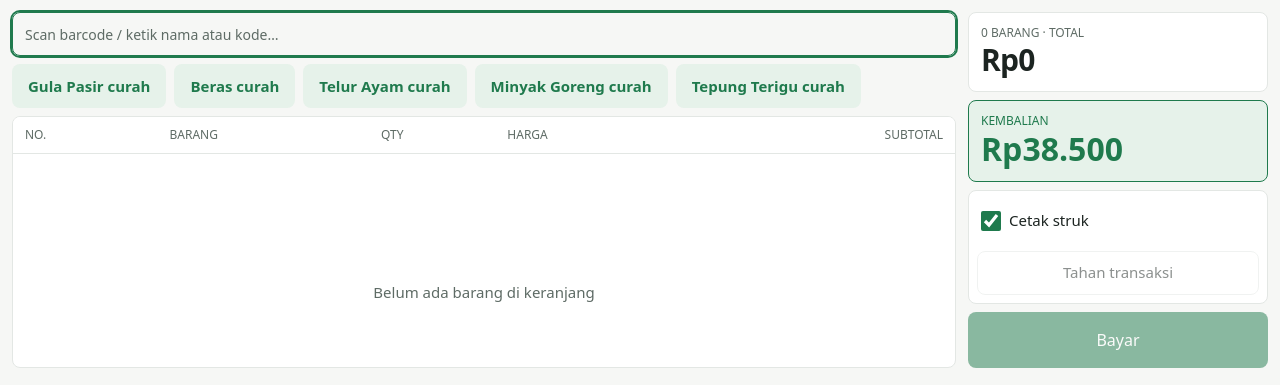
Test: kembalian setelah transaksi tampil sampai barang berikutnya ditambah
The width and height of the screenshot is (1280, 385).
Expected: the text "KEMBALIAN" is shown, [981,112,1049,128]
Expected: the text "Rp38.500" is shown, [981,126,1123,170]
Type "089686010947" into the dropdown labelled "Scan barcode / ketik nama atau kode" at (484, 34), box [12,12,956,56]
Then press Enter
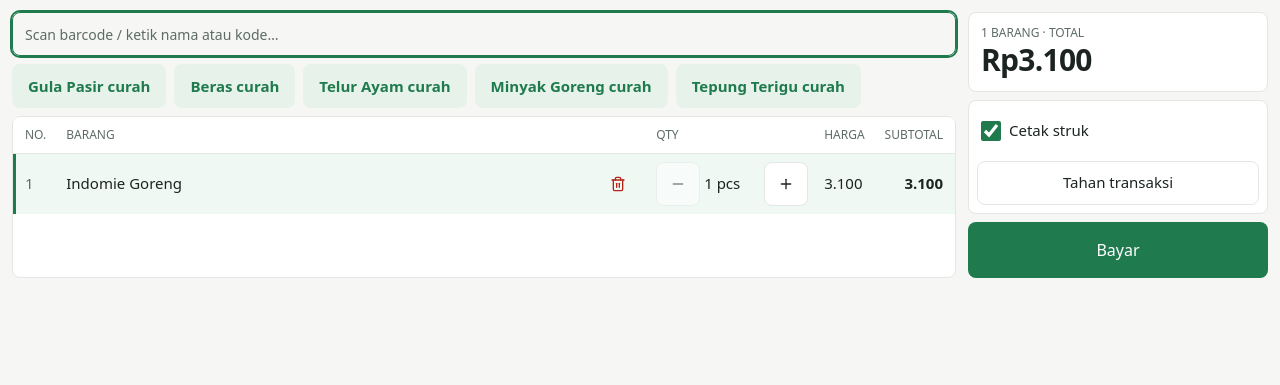
Result: the text "KEMBALIAN" is gone
Result: the text "1 BARANG · TOTAL" is shown at [981,24,1084,41]
